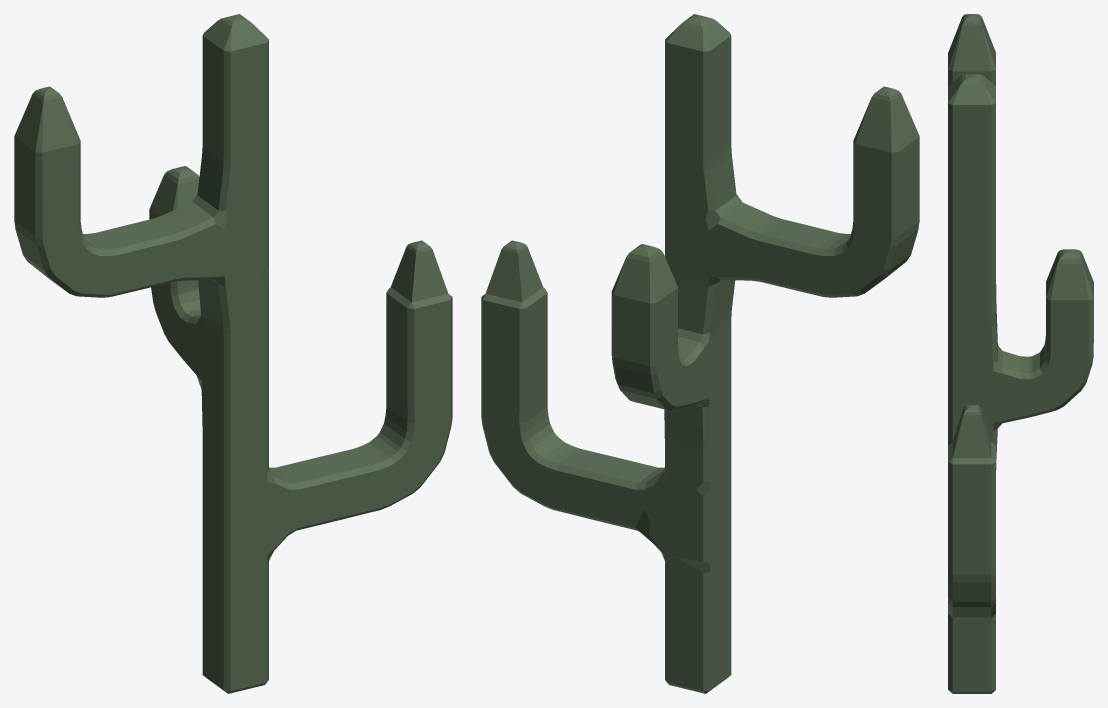
Rendered from Cactus3.fbx.
3 renders of one model, left to right at view 1: azimuth 30°, elevation 25°; view 2: azimuth 150°, elevation 25°; view 3: azimuth 270°, elevation 25°, orthographic. The views are drawn at different scales.
Parts seen in each view (by area): view 1: Plane; view 2: Plane; view 3: Plane.
Part boxes in pixels (x1,y1,x2,y2): Plane: [14, 14, 452, 693]; Plane: [481, 14, 919, 693]; Plane: [948, 14, 1093, 693].
Bounding box in the file's own units: 294 × 447 × 97.01.
